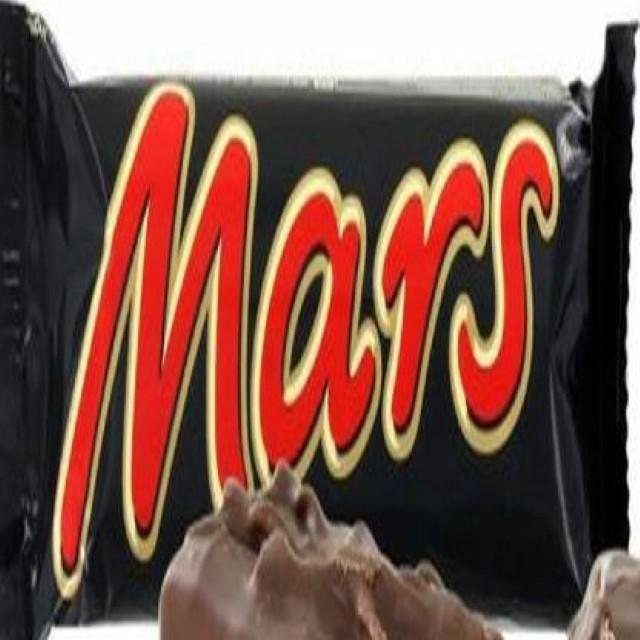mars_chocolate: (15, 81, 640, 586)
